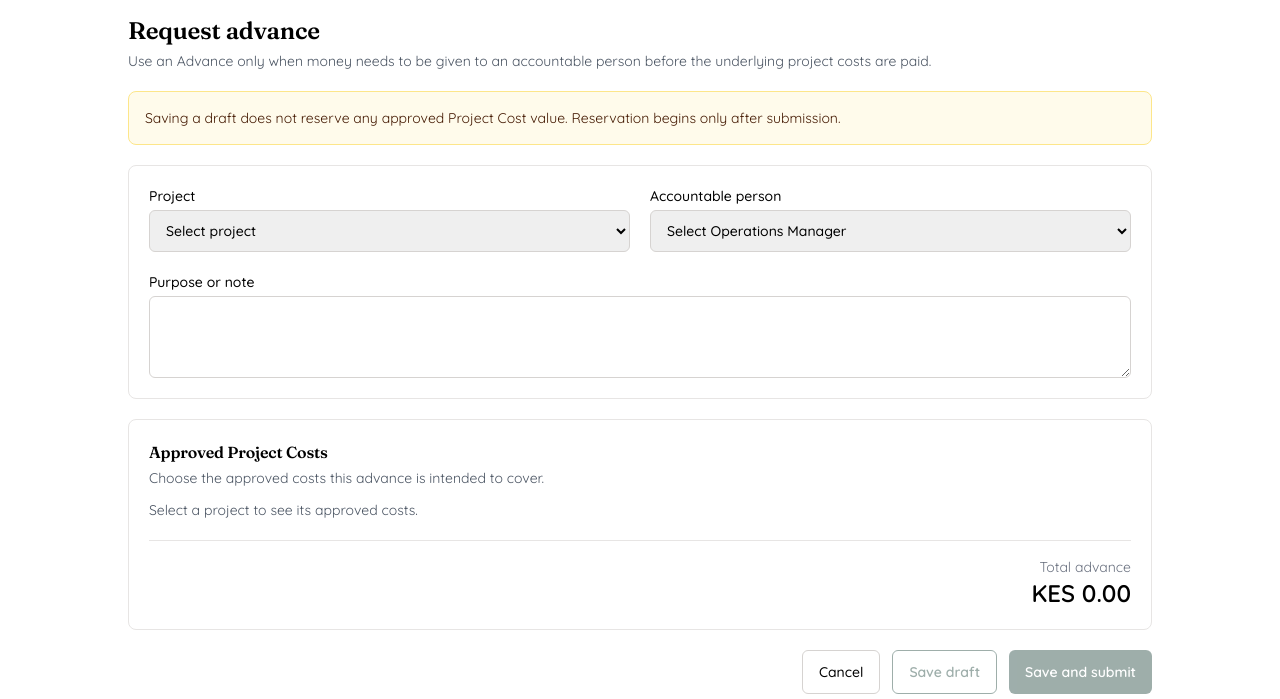
Test: Advances admin surfaces › warns that a draft does not reserve and surfaces per-claim availability
expect the text "does not reserve any approved Project Cost value" is shown: met, box [145,109,840,127]
Step 1. Select "Alego Usonga" in the dropdown labelled "Project" → (390, 231), box [149,210,630,252]
(page scrolled)
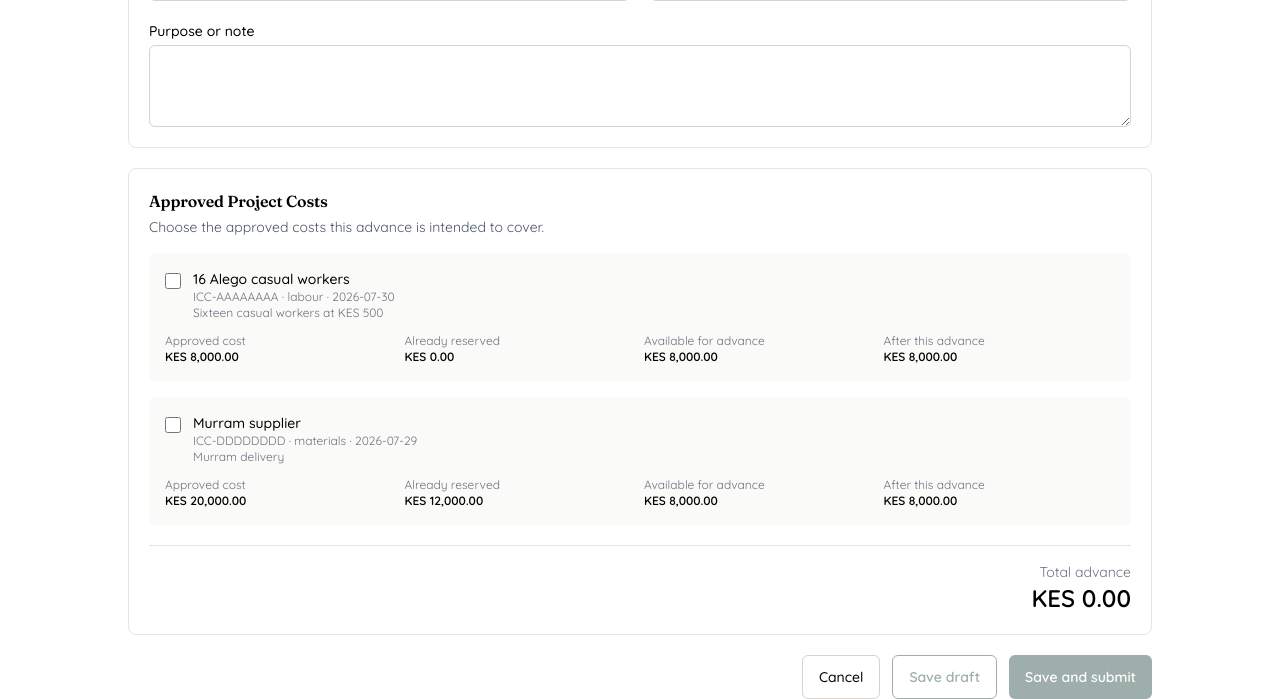
expect the text "Murram supplier" is shown: met, box [193,414,301,432]
expect the text "Available for advance" is shown 2 times: met, box [644,333,765,348]; [644,477,765,492]
expect the text "KES 12,000.00" is shown: met, box [404,493,483,508]
